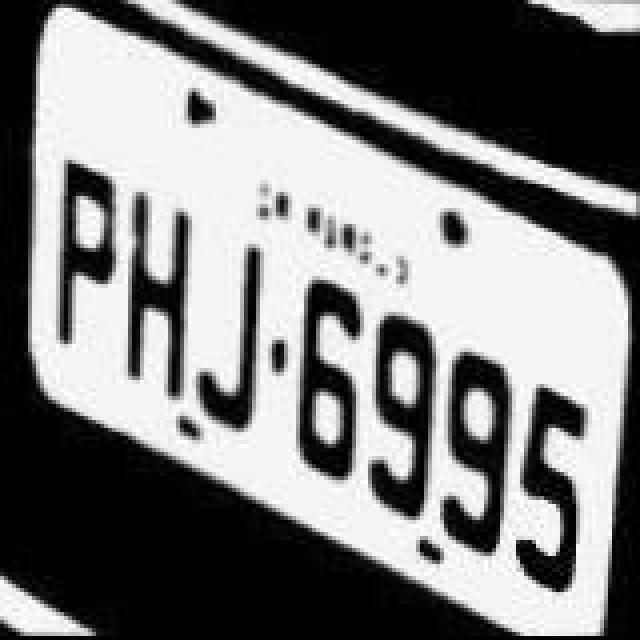5: (514, 382, 598, 594)
6: (286, 262, 366, 478)
9: (360, 308, 440, 524), (442, 344, 518, 552)
H: (118, 186, 198, 402)
J: (194, 232, 274, 432)
P: (52, 154, 124, 358)
